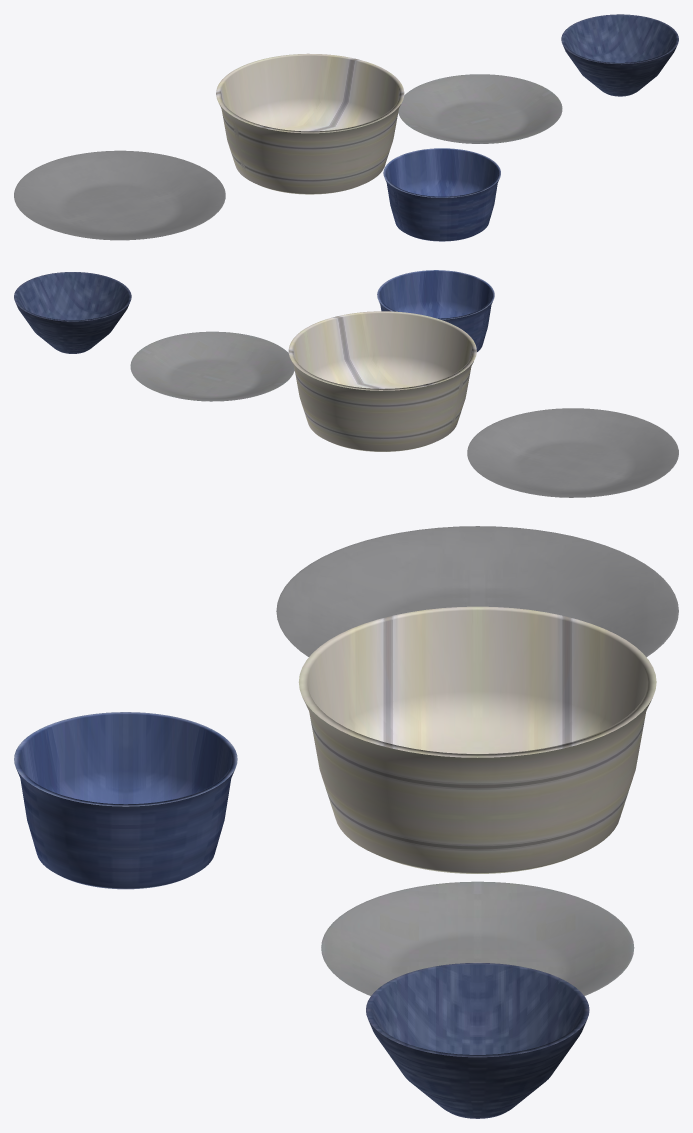
File: FLO-13.glb
The picture shows the model from 3 angles, top to bottom: view 1: azimuth 30°, elevation 25°; view 2: azimuth 150°, elevation 25°; view 3: azimuth 270°, elevation 25°; orthographic projection. The views are drawn at different scales.
Bounding box in the file's own units: 0.946 × 0.1 × 0.446.
10 materials, 10 textured.
